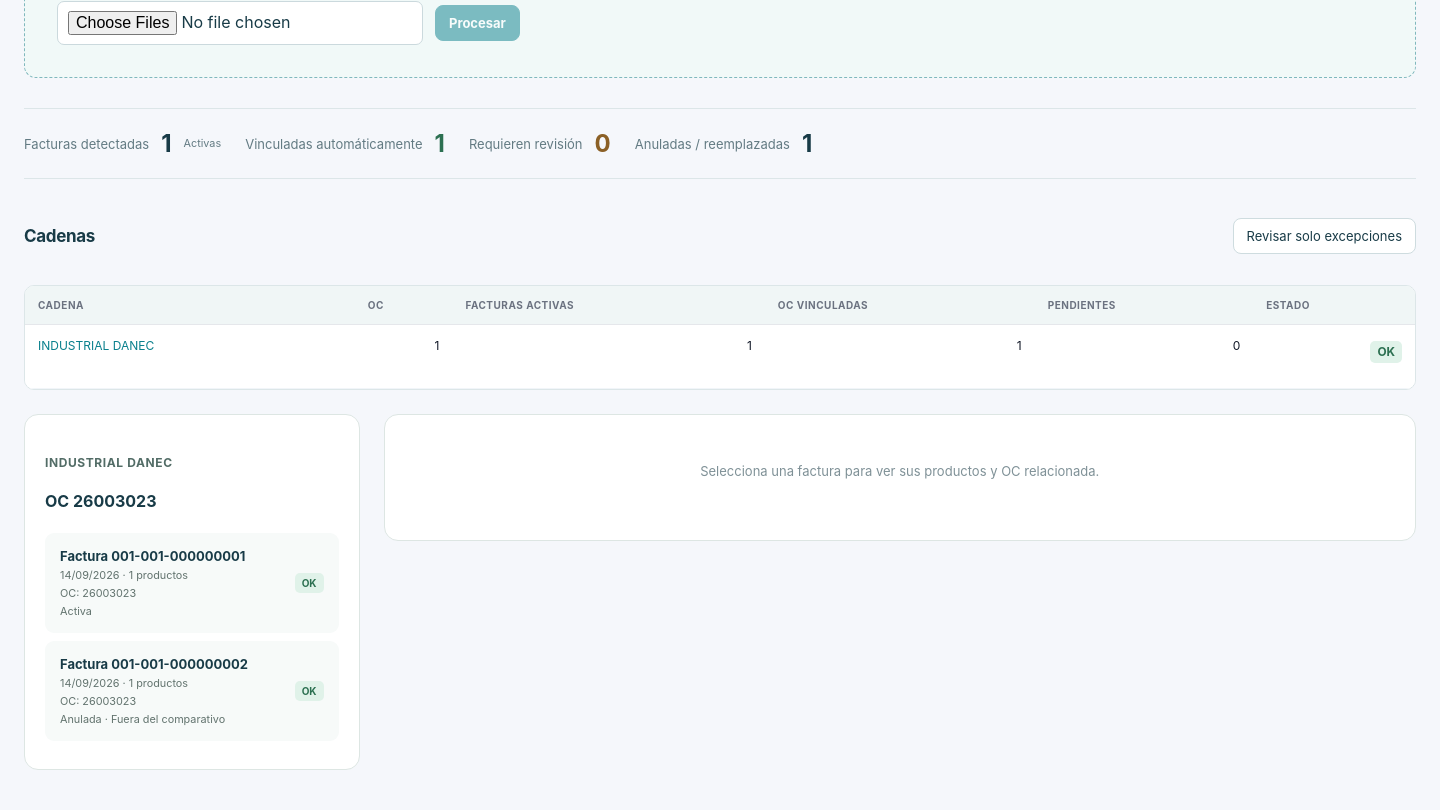
it: Flujo comercial › conserva varias facturas de una OC y muestra sus importes y anulación documental
(page scrolled)
Check: the text "Facturas detectadas" is shown, box x1=24 y1=136 x2=149 y2=152
Check: the button "Factura 001-001-000000001" is shown, box x1=45 y1=533 x2=338 y2=633
What coordinates should you click on to do the following:
click the button "Factura 001-001-000000002"
I would click on:
 (84, 664)
Its box is x1=45 y1=641 x2=338 y2=741.
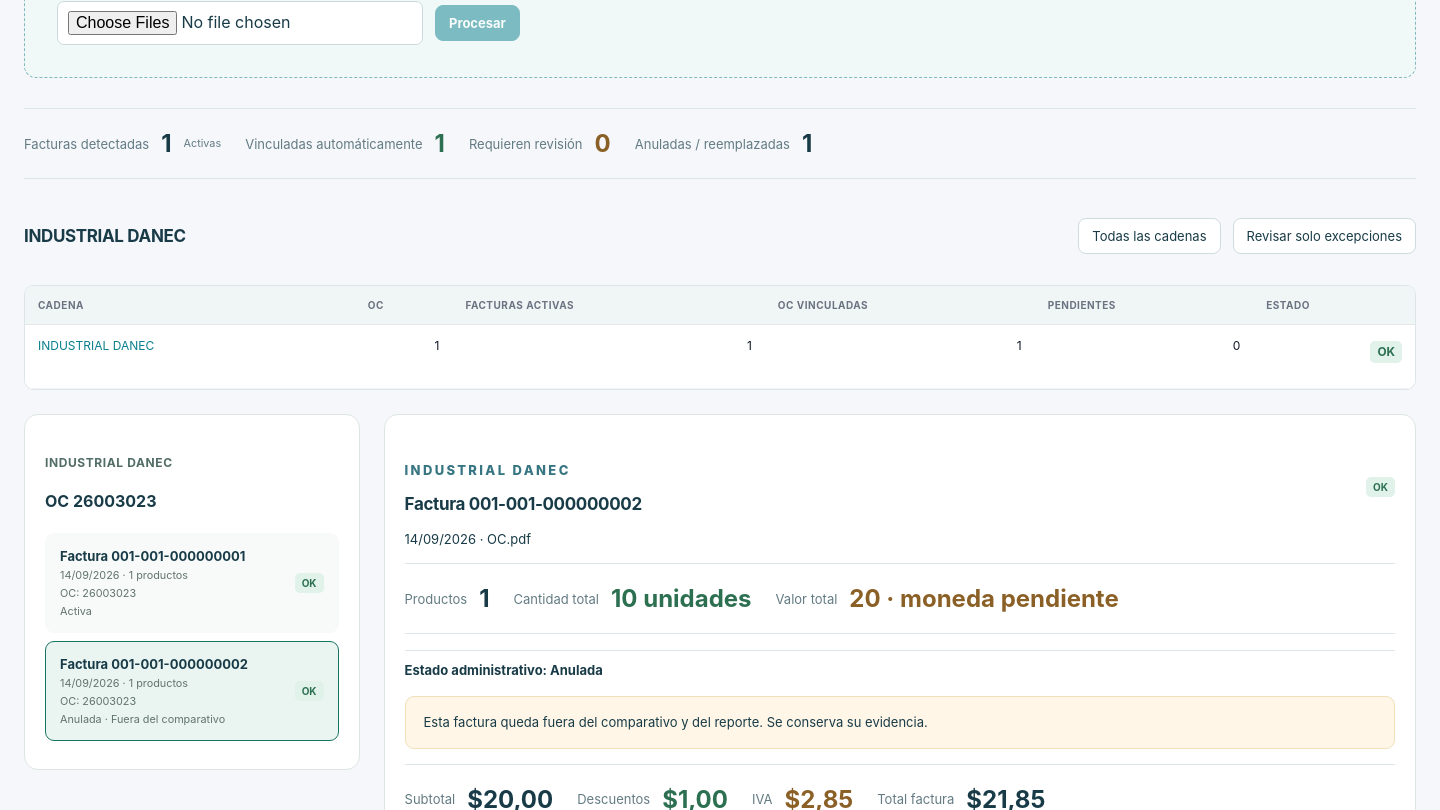
Check: the text "Estado administrativo: Anulada" is shown, box x1=404 y1=662 x2=603 y2=678
Check: the text "Subtotal" is shown, box x1=404 y1=791 x2=455 y2=807
Check: the text "Descuentos" is shown, box x1=577 y1=791 x2=650 y2=807
